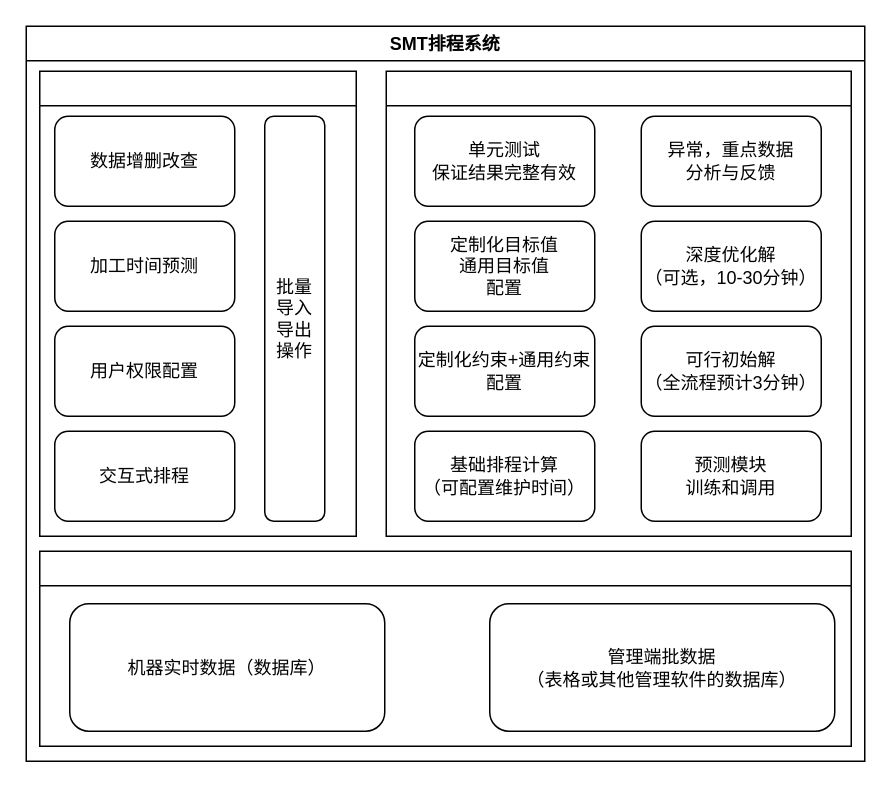
Image size: 891x788. Some labels were removed from this diagram. The box of each missing label's shape, as (x1, y1, x2, y2) in pixels:
优化算法后端: (385, 70, 851, 536)
数据源: (38, 550, 851, 746)
网页管理前端: (38, 70, 356, 536)
